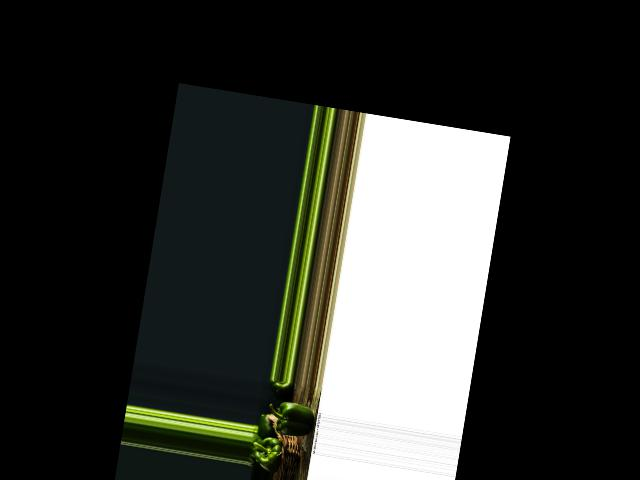bell_pepper: (268, 378, 290, 395)
